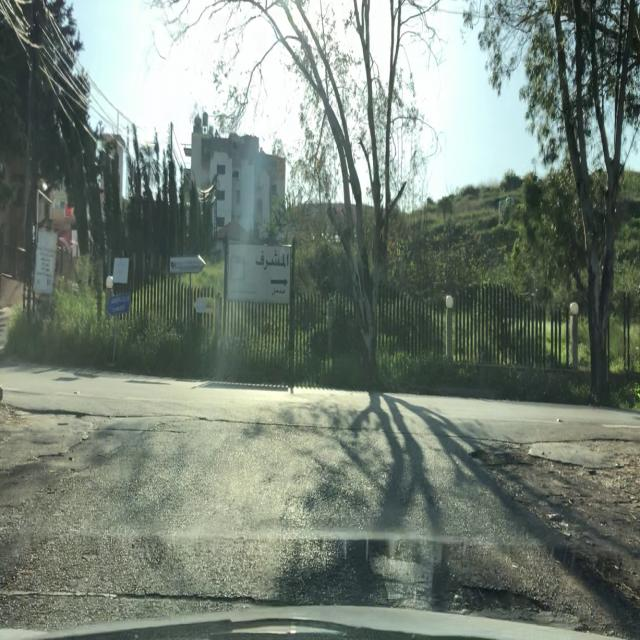Pothole: (451, 581, 558, 614), (468, 446, 523, 467), (9, 406, 93, 419)
